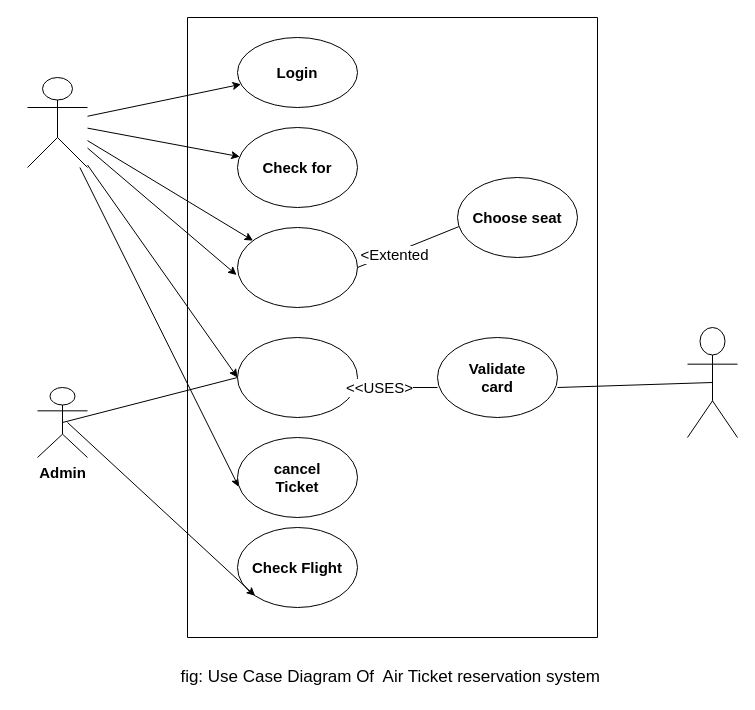
Some shapes in this 755 by 710 pixel diagram are drawn without their labels. The box of each missing label's shape, as (x1, y1, x2, y2) in pixels:
Bank: (686, 326, 738, 438)
Book Ticket: (236, 226, 358, 308)
Passenger: (26, 76, 88, 168)
payment: (236, 336, 358, 418)
